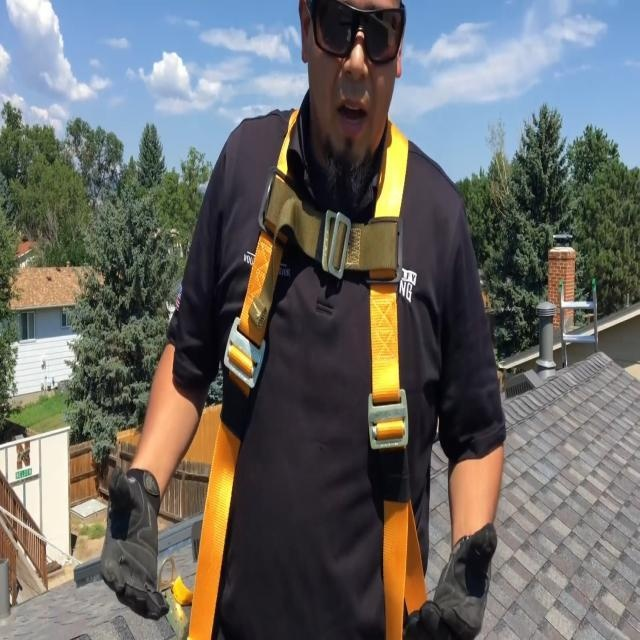Arnes_seguridad: (178, 85, 438, 640)
